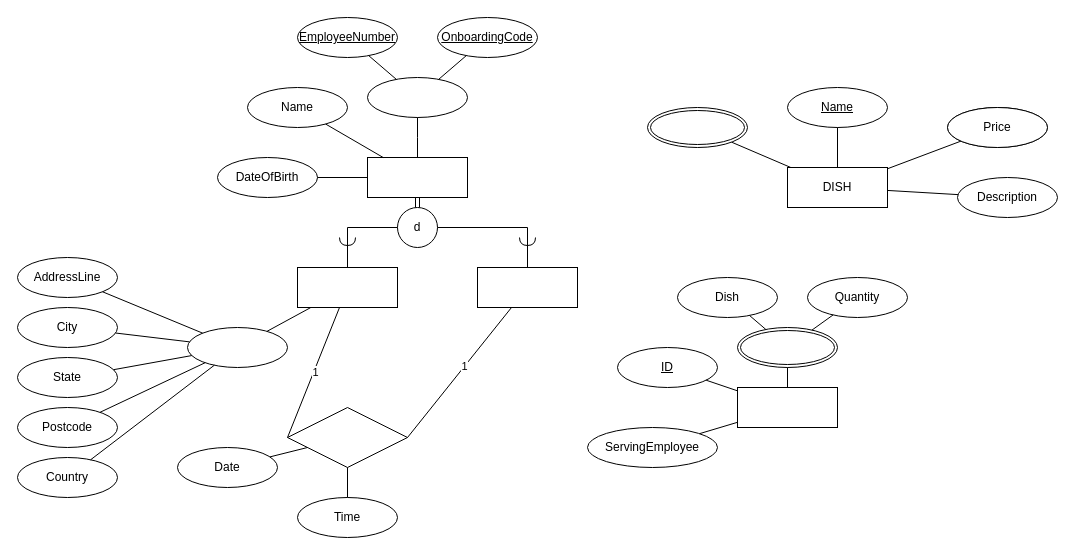
Some shapes in this 1075 by 555 pixel diagram are drawn without their labels. Each missing label, with the box of its shape:
Address: (186, 326, 288, 368)
Allergens: (646, 106, 748, 148)
Dishes ordered: (736, 326, 838, 368)
EMPLOYEE: (366, 156, 468, 198)
EmployeeCode: (366, 76, 468, 118)
HUMAN: (296, 266, 398, 308)
MARTIAN: (476, 266, 578, 308)
ORDER: (736, 386, 838, 428)
TRAINS: (286, 406, 408, 468)
